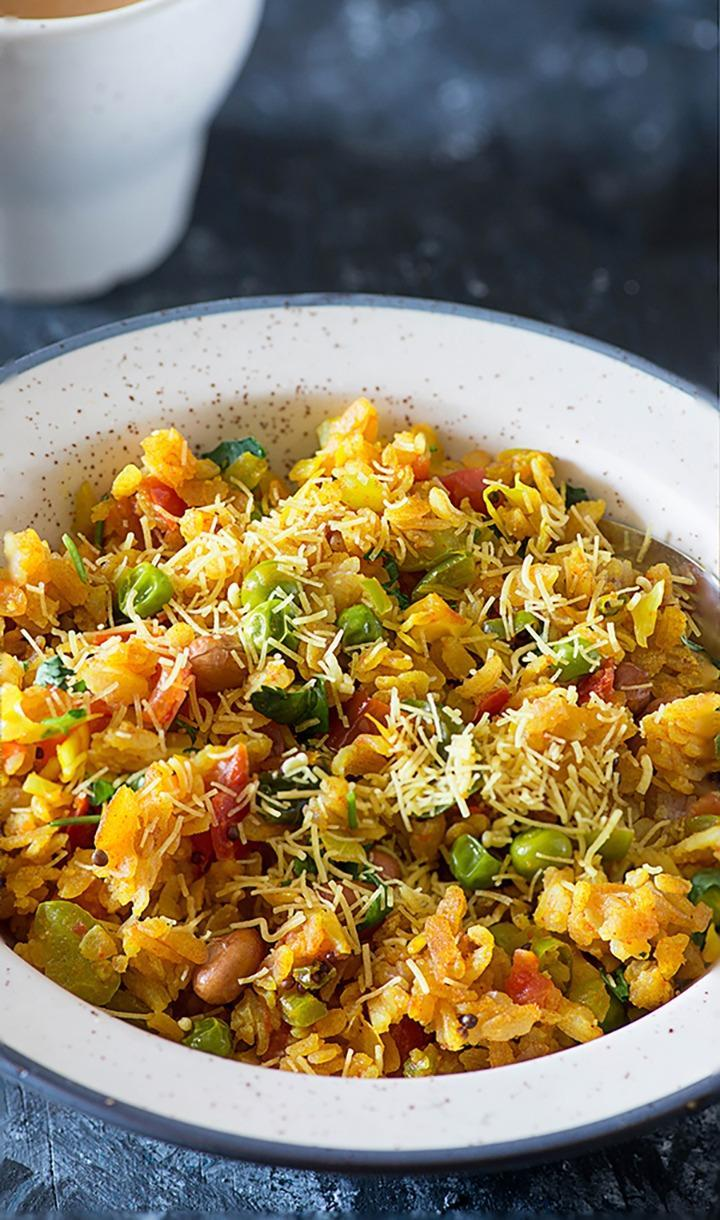poha: (0, 388, 720, 1086)
